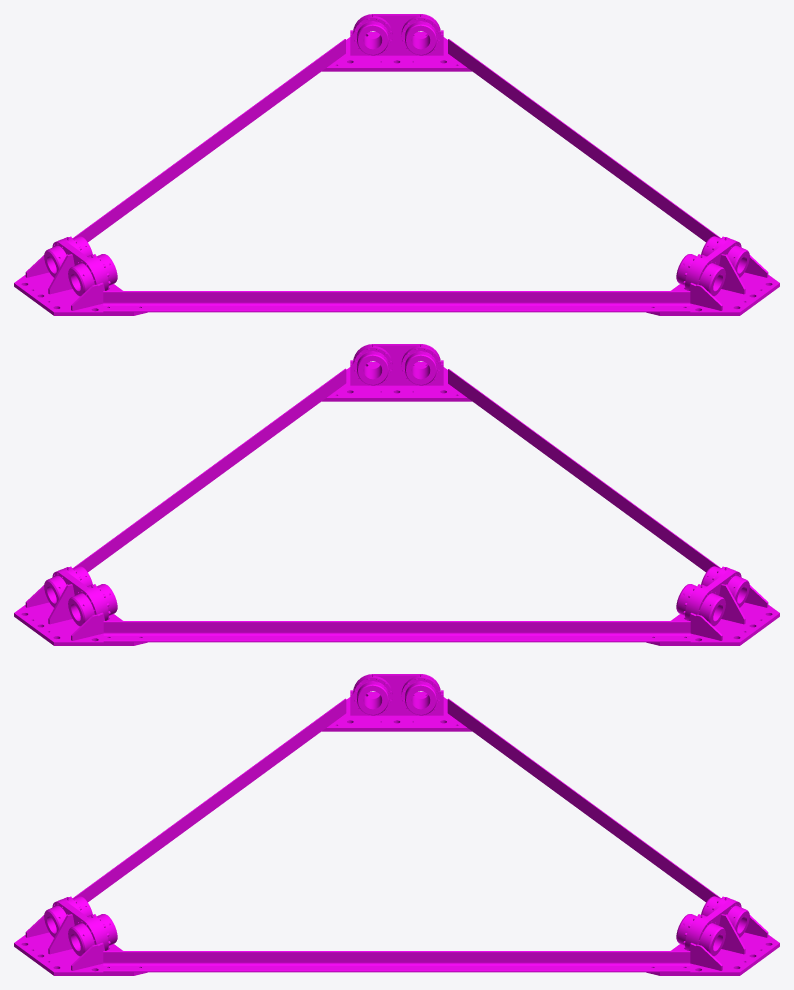
Rendered from Stewart_Bottom.obj.
3 views of the same model, one above another, from view 1: azimuth 30°, elevation 25°; view 2: azimuth 150°, elevation 25°; view 3: azimuth 270°, elevation 25° (orthographic).
Parts seen in each view (by area): view 1: 1400_Derived_Baseframe_crdincl.stp_Default_sldprt; view 2: 1400_Derived_Baseframe_crdincl.stp_Default_sldprt; view 3: 1400_Derived_Baseframe_crdincl.stp_Default_sldprt.
Boxes of the visible parts, x1,y1,x2,y2 form: 1400_Derived_Baseframe_crdincl.stp_Default_sldprt: [14, 14, 779, 315]; 1400_Derived_Baseframe_crdincl.stp_Default_sldprt: [14, 344, 779, 645]; 1400_Derived_Baseframe_crdincl.stp_Default_sldprt: [14, 674, 779, 975].
Size of the model in its own units: 2.49 by 0.1813 by 2.87.
